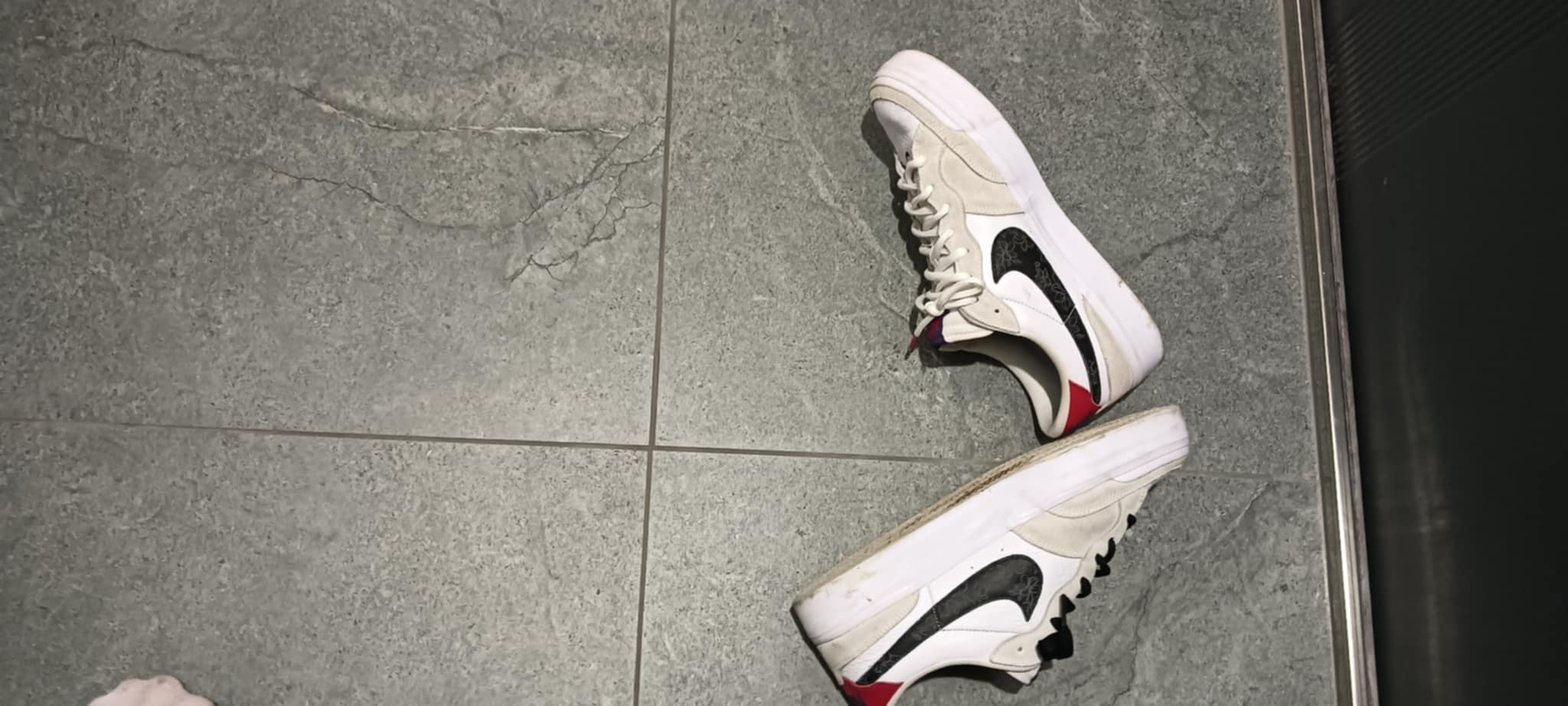nike_pogo_plus_japanese_roots: (780, 404, 1189, 702), (857, 47, 1166, 433)
